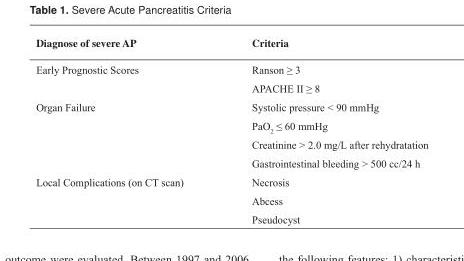table: (35, 34, 427, 224)
table column: (216, 34, 427, 224), (35, 34, 216, 224)
table column header: (35, 34, 427, 56)
table row: (35, 34, 427, 56), (35, 56, 427, 78), (35, 115, 427, 135), (35, 78, 427, 97), (35, 153, 427, 172), (35, 190, 427, 209), (35, 97, 427, 115), (35, 135, 427, 153), (35, 172, 427, 190), (35, 209, 427, 224)
table spanning cell: (35, 97, 216, 172), (35, 172, 216, 224), (35, 56, 216, 97)
